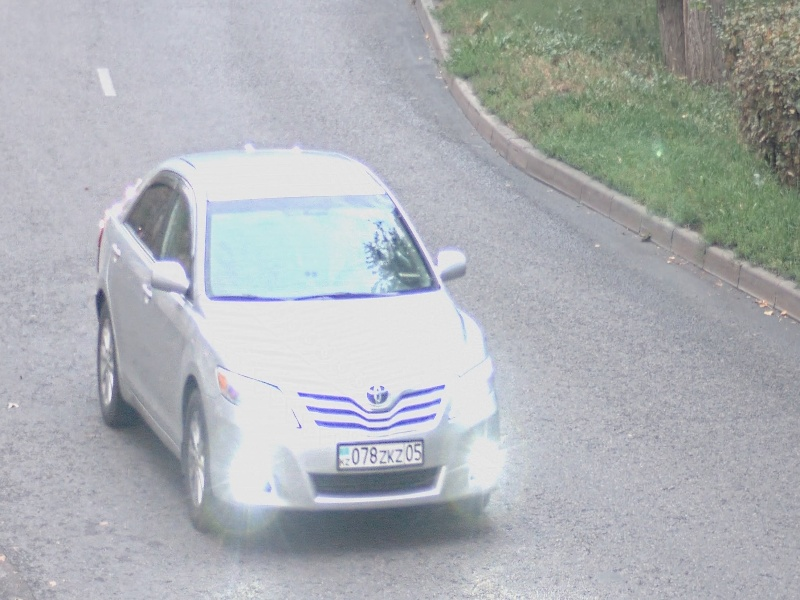plate: (336, 438, 425, 472)
